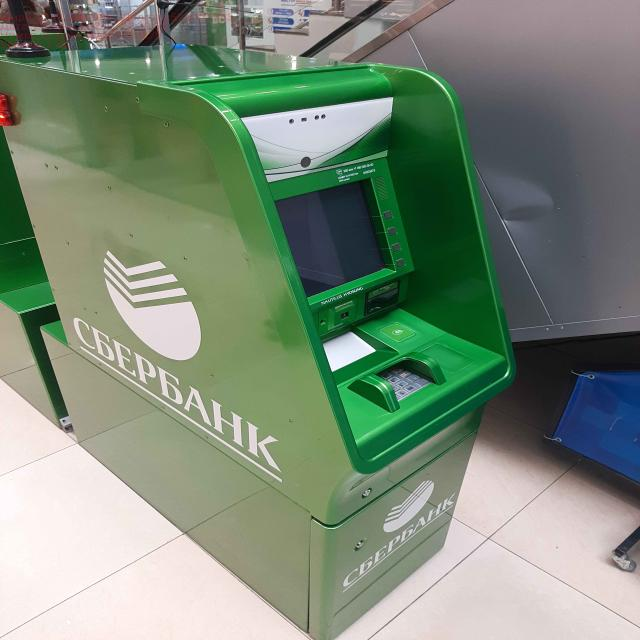bank: (0, 43, 510, 640)
